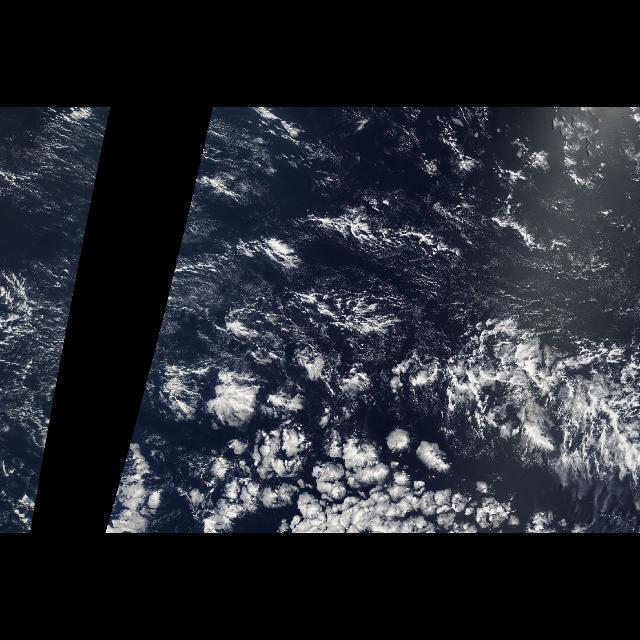Fish: (370, 310, 640, 480)
Flower: (192, 402, 526, 532)
Sugar: (153, 115, 297, 355), (12, 115, 112, 355), (460, 237, 640, 313)
